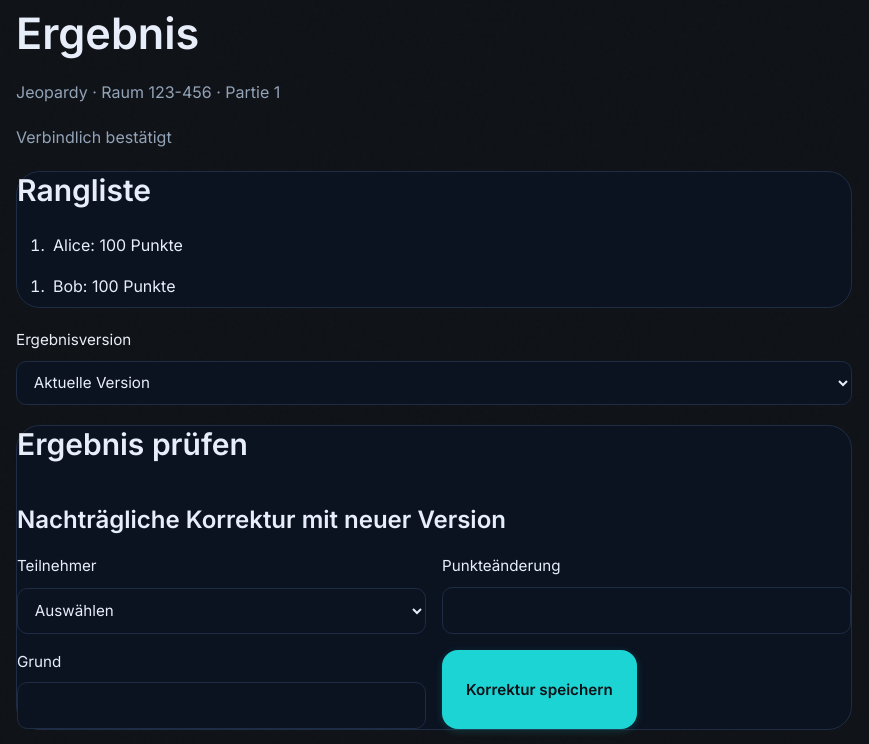
it: separates a historical revision from the live status and never offers corrections on it
The width and height of the screenshot is (869, 744).
Expected: the text "Verbindlich bestätigt" is shown, [16,127,172,147]
Step 1. Select "Version 1 · Ursprüngliches Ergebnis" in the dropdown labelled "Ergebnisversion" → (434, 382), box [16,360,852,404]
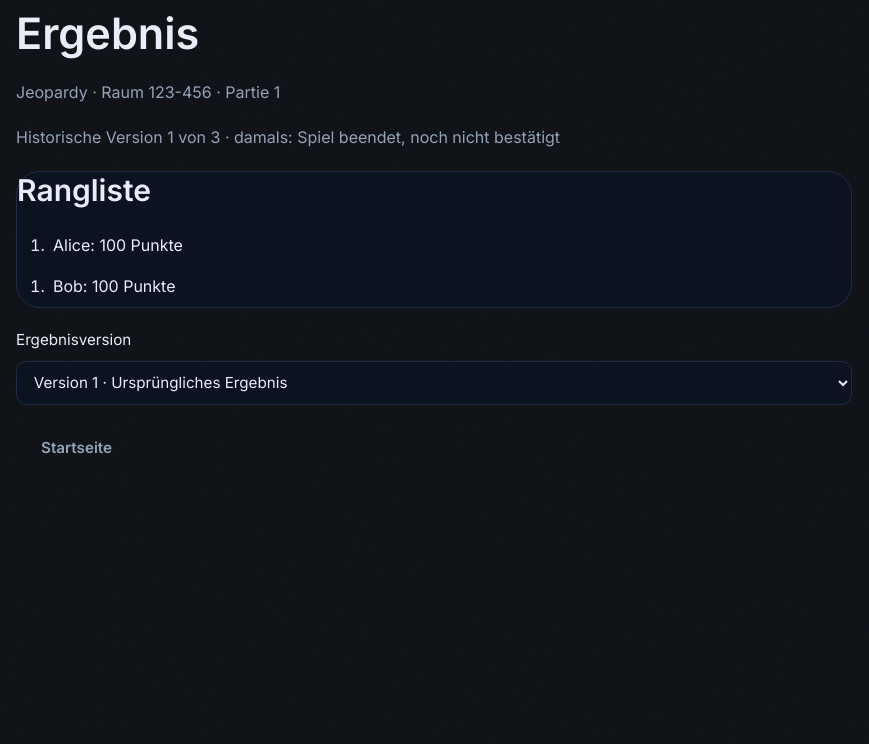
Expected: the text "Historische Version 1 von 3 · damals: Spiel beendet, noch nicht bestätigt" is shown, [16,127,560,147]
Expected: the text "Verbindlich bestätigt" is gone
Expected: the button "Korrektur speichern" is gone
